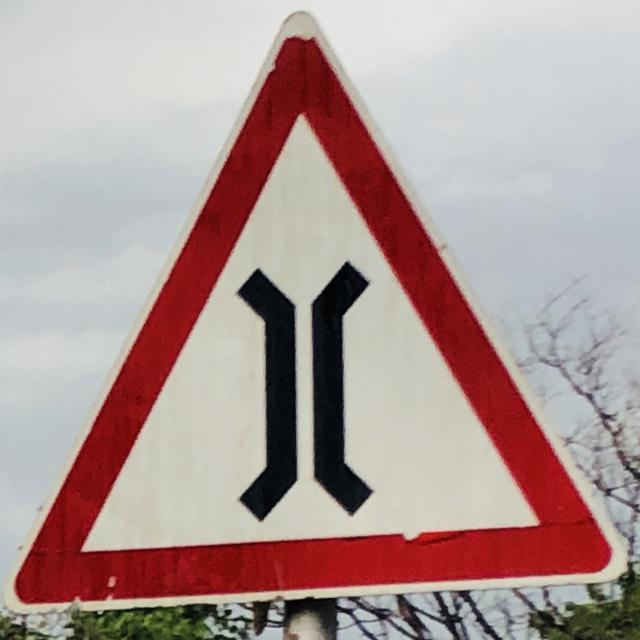narrow bridge ahead: (20, 40, 615, 607)
